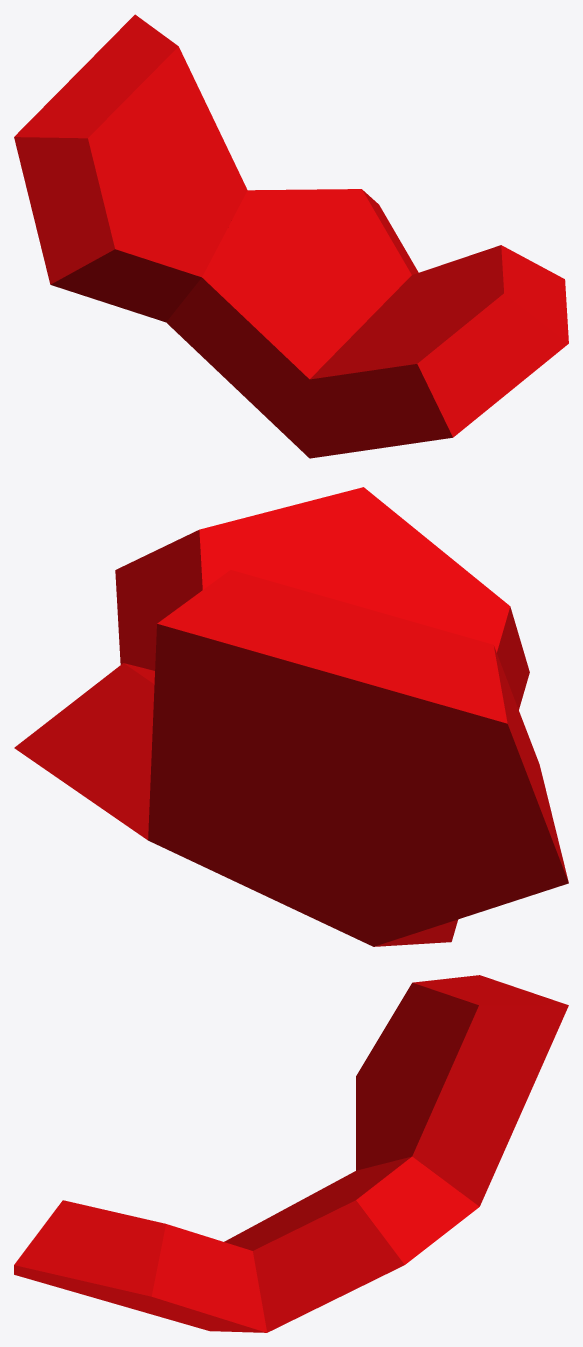
The model's file is piece7.glb.
3 views of the same model, one above another, from view 1: azimuth 30°, elevation 25°; view 2: azimuth 150°, elevation 25°; view 3: azimuth 270°, elevation 25° (orthographic). The views are drawn at different scales.
Visible parts, largest first — view 1: piece_A_7; view 2: piece_A_7; view 3: piece_A_7.
Part boxes in pixels (x1,y1,x2,y2): piece_A_7: (14,14,568,458); piece_A_7: (14,487,568,946); piece_A_7: (14,975,568,1332).
Bounding box in the file's own units: 2.97 × 2.29 × 3.54.
